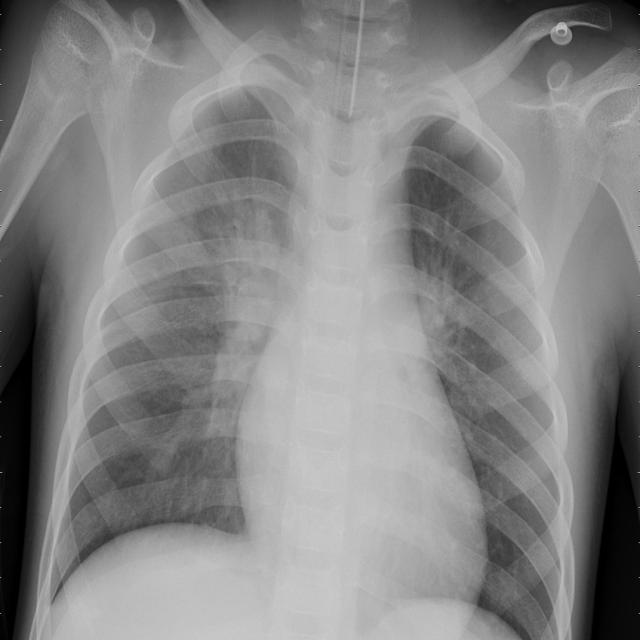low-pneumonia: (208, 183, 285, 444), (414, 247, 482, 381)
